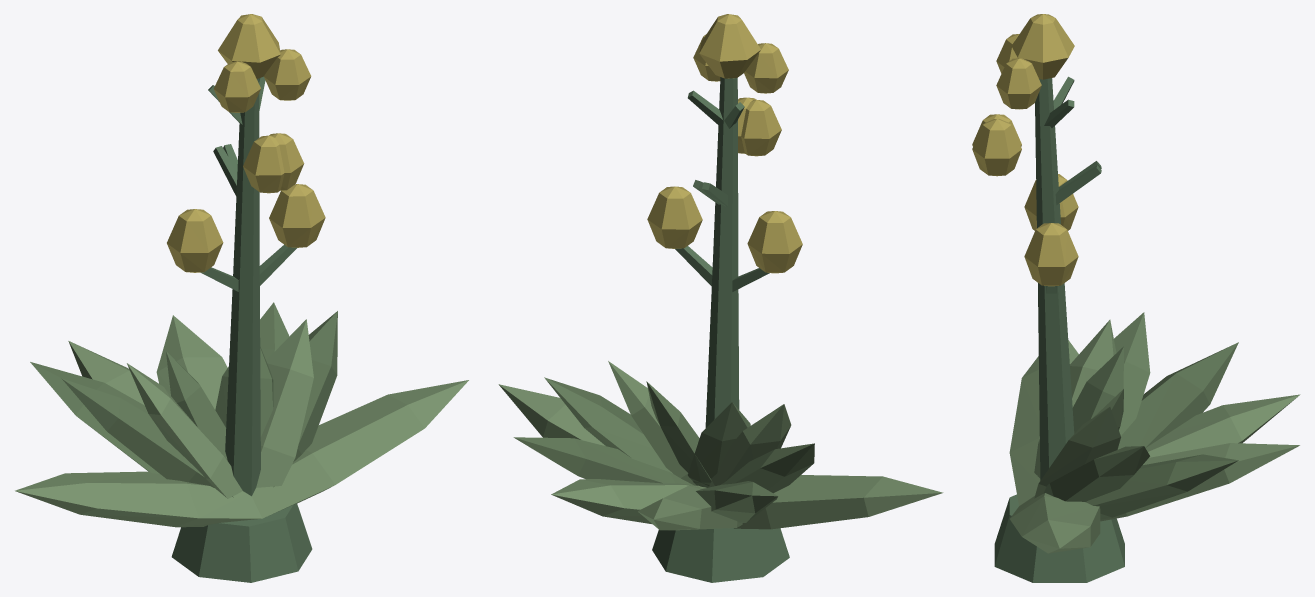
File: agave.gltf
The picture shows the model from 3 angles, left to right: view 1: azimuth 30°, elevation 25°; view 2: azimuth 150°, elevation 25°; view 3: azimuth 270°, elevation 25°; orthographic projection. The views are drawn at different scales.
Visible parts, largest first — view 1: agave; view 2: agave; view 3: agave.
Boxes of the visible parts, x1=… form: agave: x1=15, y1=14, x2=468, y2=582; agave: x1=498, y1=14, x2=943, y2=582; agave: x1=972, y1=14, x2=1300, y2=582.
Size of the model in its own units: 1.25 by 1.43 by 0.787.
